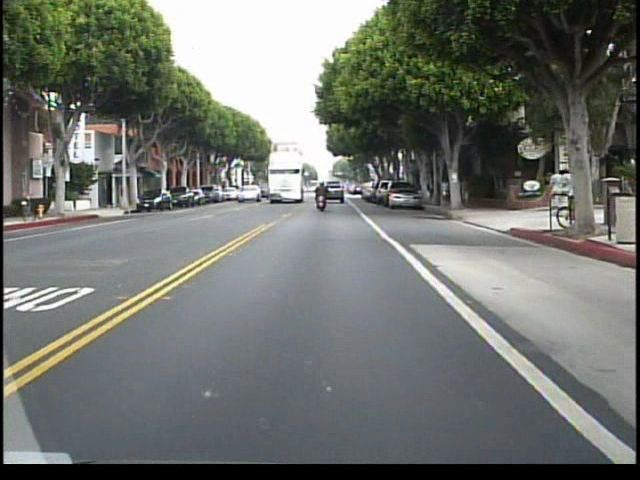person: (312, 177, 331, 220), (437, 174, 449, 207), (462, 174, 472, 206), (453, 173, 462, 205)
